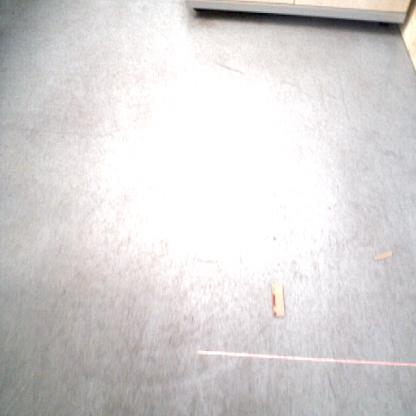dirty: (270, 283, 287, 318), (372, 249, 394, 262)
mark: (216, 61, 242, 74), (271, 233, 278, 243), (60, 132, 65, 138)
